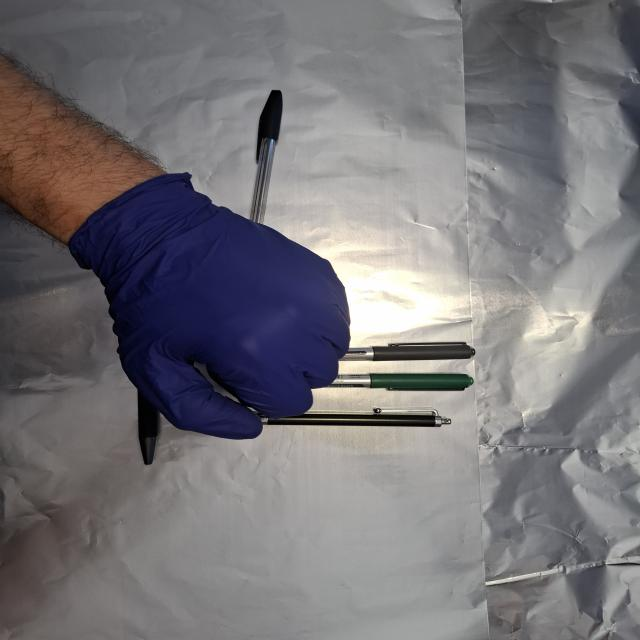glove_on: (73, 170, 354, 443)
